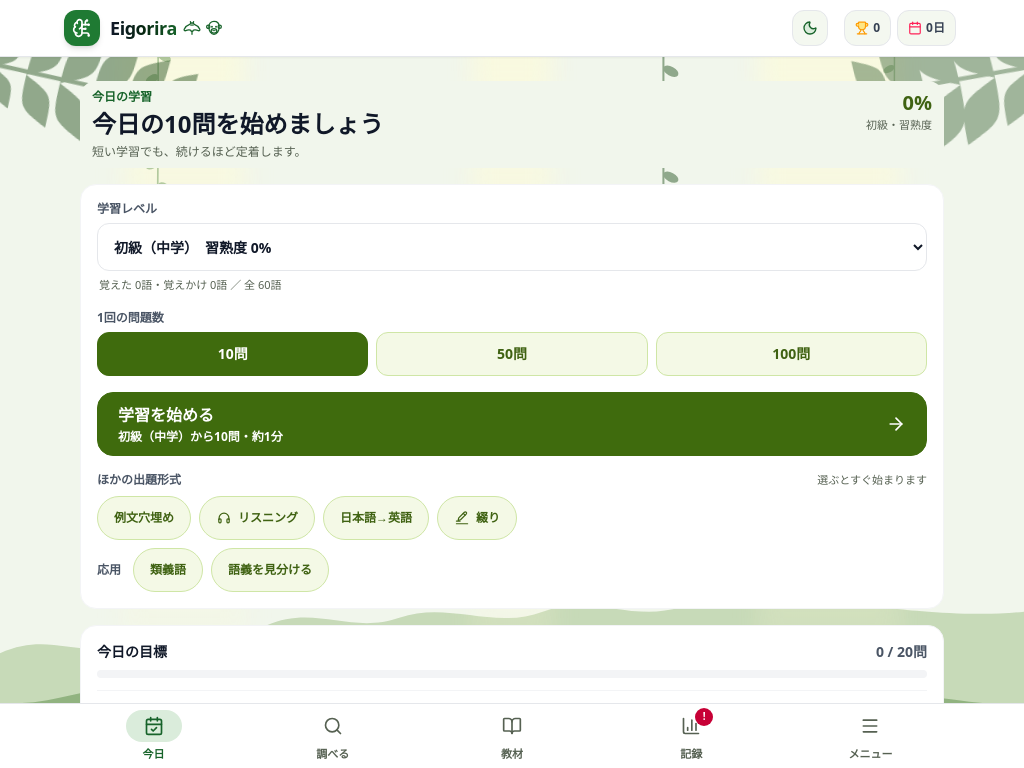
「今日」と「教材」で設定を共有する › 今日で選んだ問題数が、教材から始めたクイズにも効く（保存できない環境でも）
Click the button with id "btn_question_count_50": (512, 354) 376,332 -> 648,376
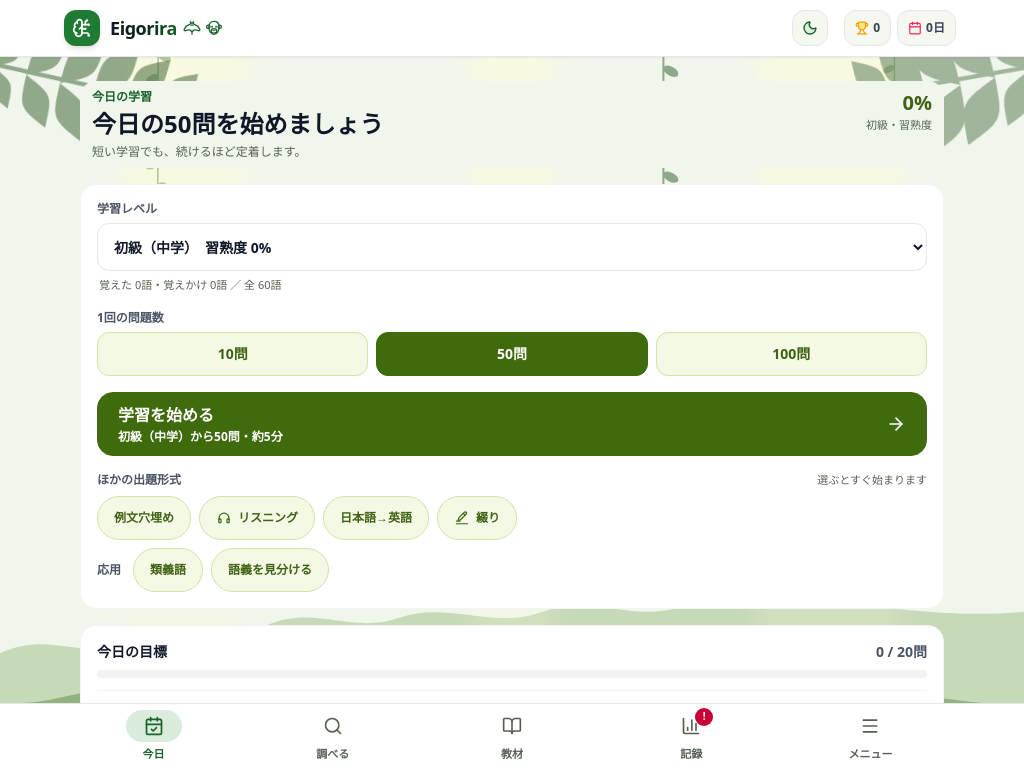
Click the button with id "tab_learn": (512, 736) 422,704 -> 602,767
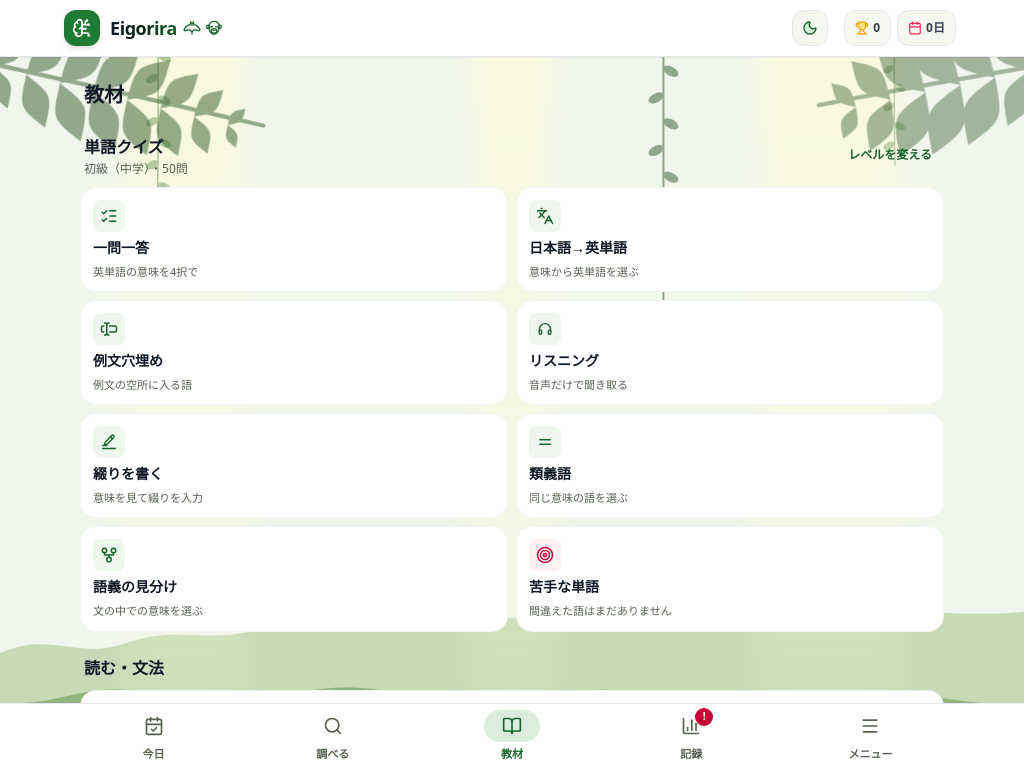
Expected: the button with id "btn_learn_spelling" is shown
Expected: the text with id "learn_quiz_setting" shows "50問", 84,161 -> 188,177
Click the button with id "btn_learn_spelling": (109, 442) 80,413 -> 508,518
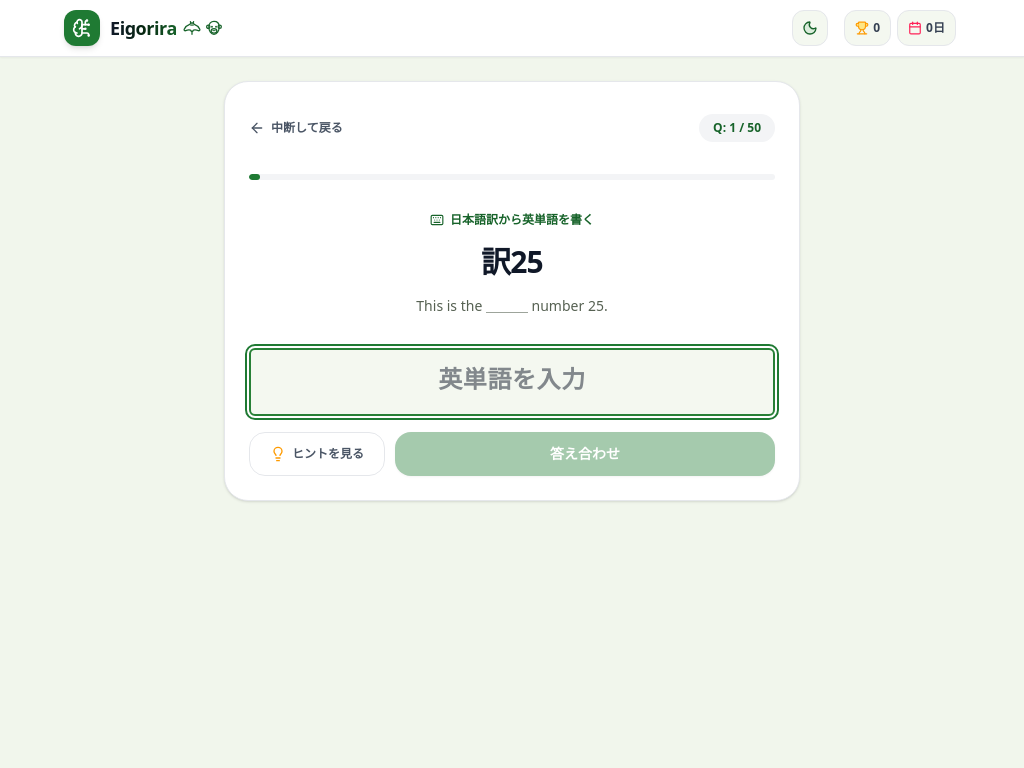
Expected: the text "Q: 1 / 50" is shown, 699,114 -> 775,142
